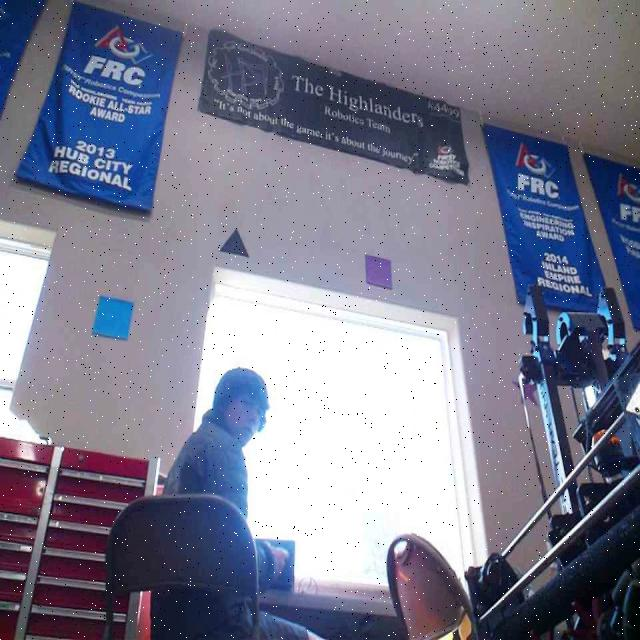square_blue: (91, 294, 133, 339)
square_purple: (363, 254, 392, 289)
triangle_black: (220, 228, 250, 258)
